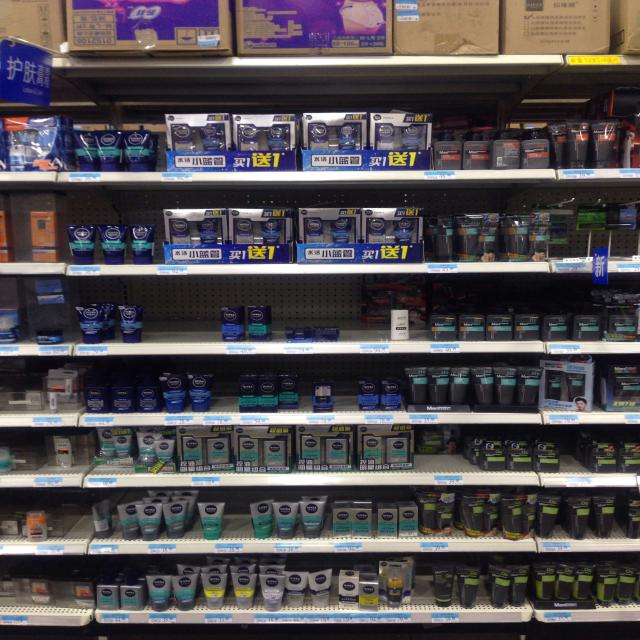void: (184, 277, 219, 357), (577, 192, 609, 272), (0, 195, 31, 275), (609, 192, 640, 271), (152, 278, 183, 353), (548, 185, 574, 274), (54, 487, 87, 554), (365, 276, 388, 355), (562, 430, 590, 487), (344, 278, 364, 353), (408, 560, 431, 624), (336, 368, 361, 425)
